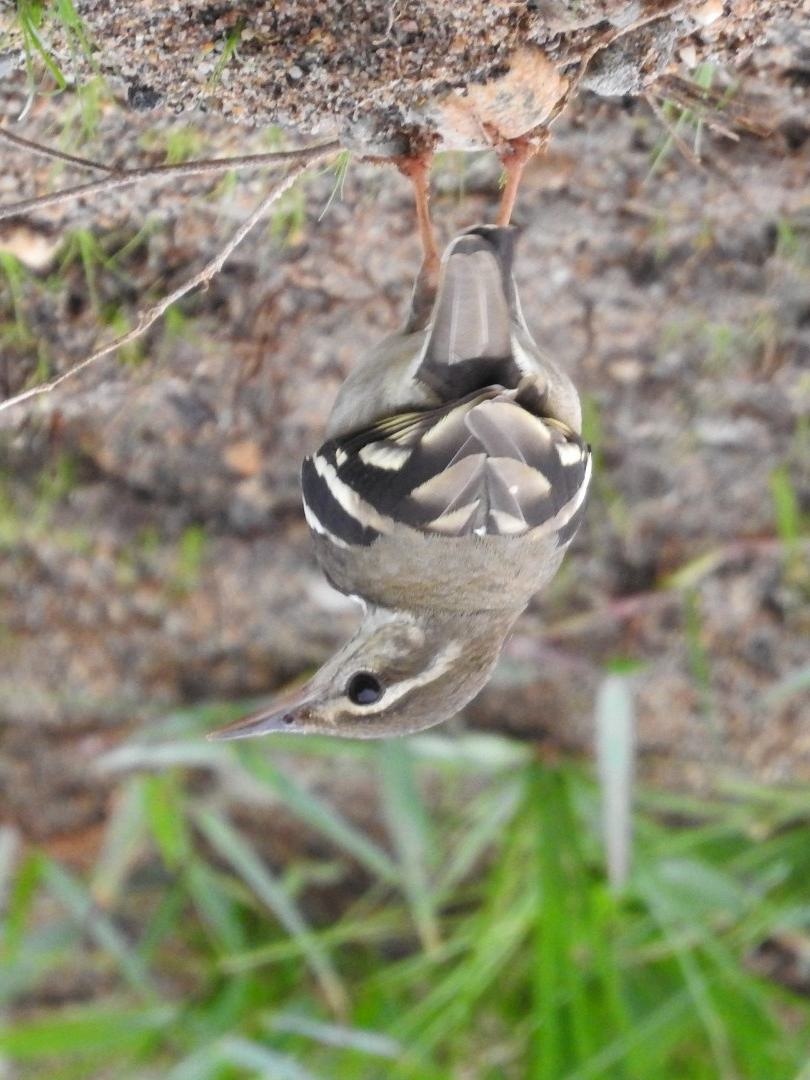wagtail: (251, 137, 595, 772)
